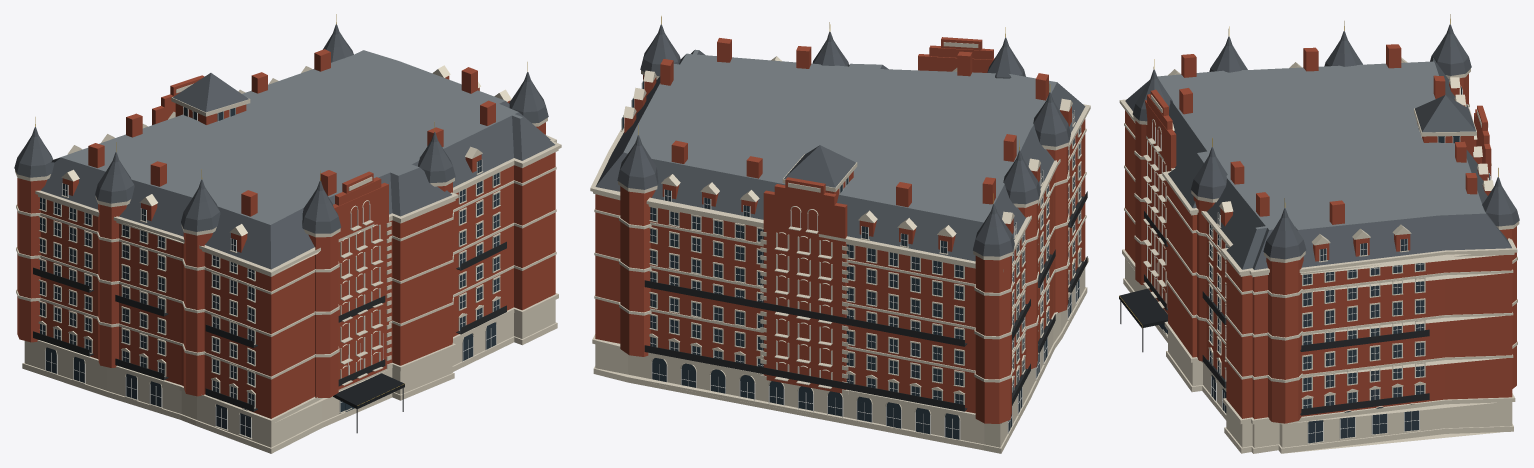
The model's file is mandarin_oriental_hyde_park.glb.
The picture shows the model from 3 angles, left to right: view 1: azimuth 30°, elevation 25°; view 2: azimuth 150°, elevation 25°; view 3: azimuth 270°, elevation 25°; orthographic projection.
Bounding box in the file's own units: 71.56 × 41.77 × 55.68.
